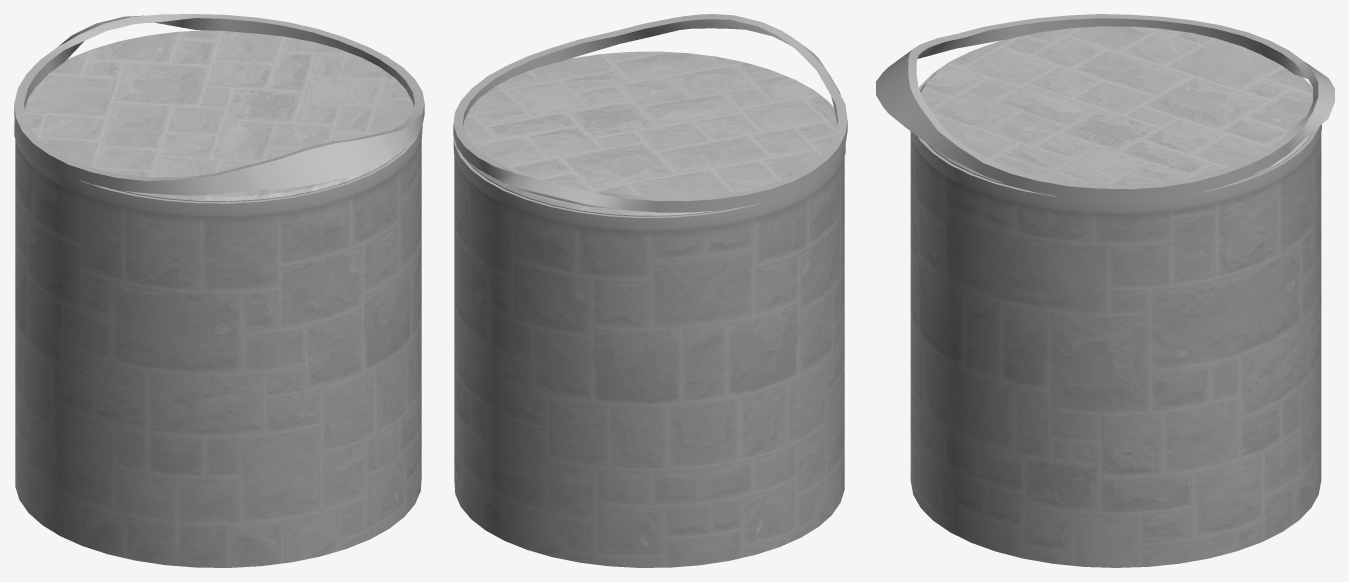
Rendered from pedestal.glb.
The picture shows the model from 3 angles, left to right: view 1: azimuth 30°, elevation 25°; view 2: azimuth 150°, elevation 25°; view 3: azimuth 270°, elevation 25°; orthographic projection. The views are drawn at different scales.
Visible parts, largest first — view 1: pCylinder4, pPipe1; view 2: pCylinder4, pPipe1; view 3: pCylinder4, pPipe1.
Part boxes in pixels (x1,y1,x2,y2): pCylinder4: (14, 30, 422, 567); pPipe1: (14, 14, 424, 195); pCylinder4: (453, 51, 845, 567); pPipe1: (453, 14, 847, 212); pCylinder4: (910, 26, 1321, 567); pPipe1: (876, 14, 1334, 201).
Size of the model in its own units: 4.01 by 4.43 by 4.45.
Materials: 2 (1 with a texture image).
